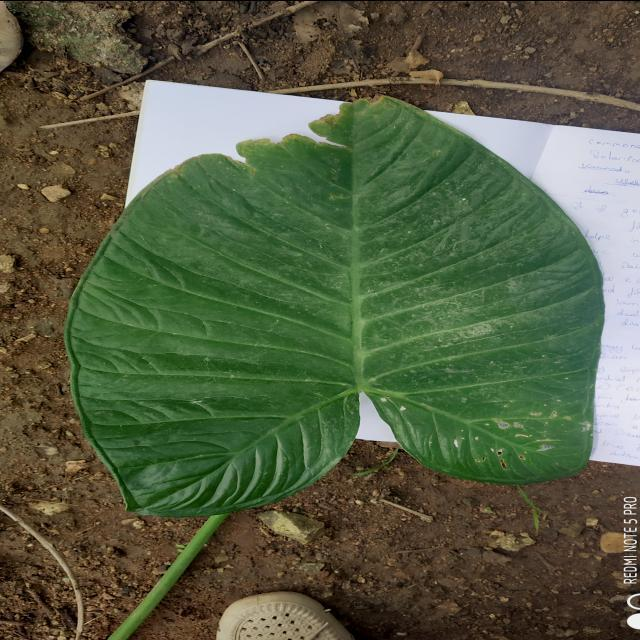leaf: (63, 91, 605, 519)
